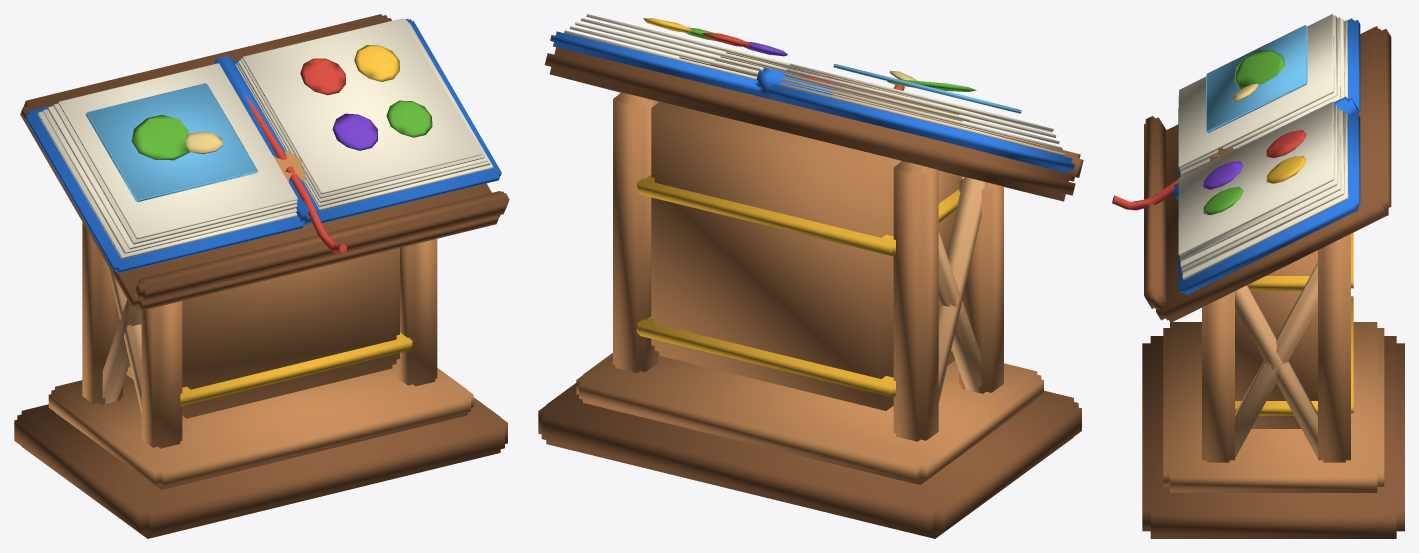
Rendered from atril.glb.
3 views of the same model, side by side, from view 1: azimuth 30°, elevation 25°; view 2: azimuth 150°, elevation 25°; view 3: azimuth 270°, elevation 25° (orthographic). The views are drawn at different scales.
Parts seen in each view (by area): view 1: Atril; view 2: Atril; view 3: Atril.
Part boxes in pixels (box(x1,y1,x2,y2)): Atril: box(14, 14, 509, 538); Atril: box(538, 14, 1083, 538); Atril: box(1112, 14, 1404, 538).
Bounding box in the file's own units: 1.58 × 1.43 × 1.06.
